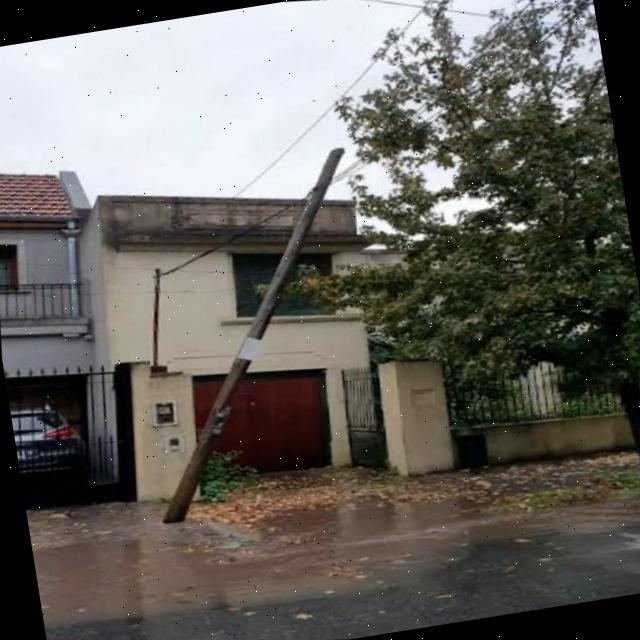Broken Pole: (163, 145, 347, 522)
